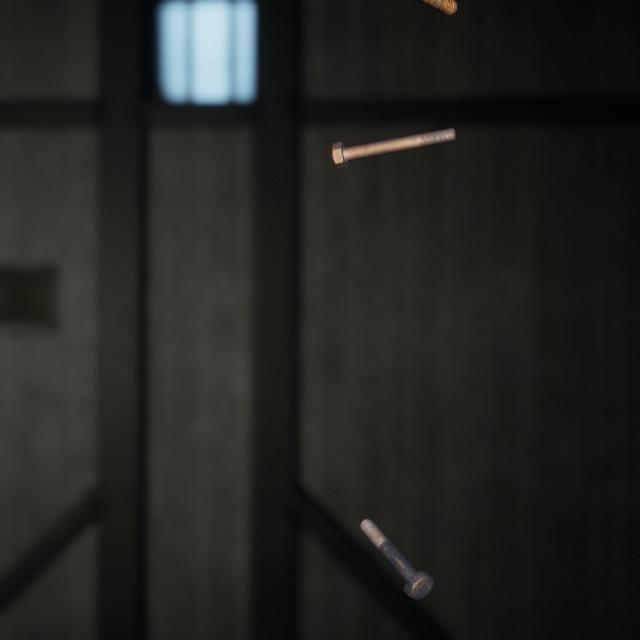bolt: (355, 493, 438, 582), (327, 111, 460, 162)
